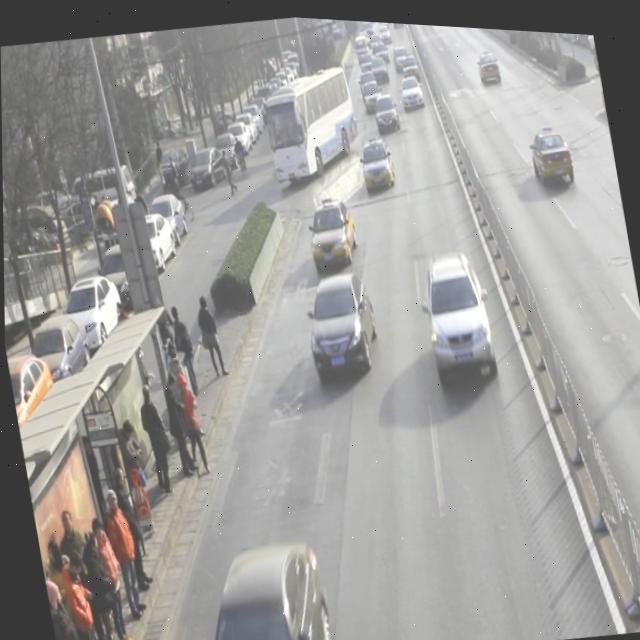car: (173, 529, 335, 640), (414, 241, 499, 378), (298, 262, 384, 378), (304, 192, 361, 269), (527, 119, 577, 184), (357, 133, 399, 191), (371, 87, 401, 132), (358, 73, 386, 111), (475, 44, 502, 80), (398, 69, 424, 105)
van: (257, 60, 365, 184)
